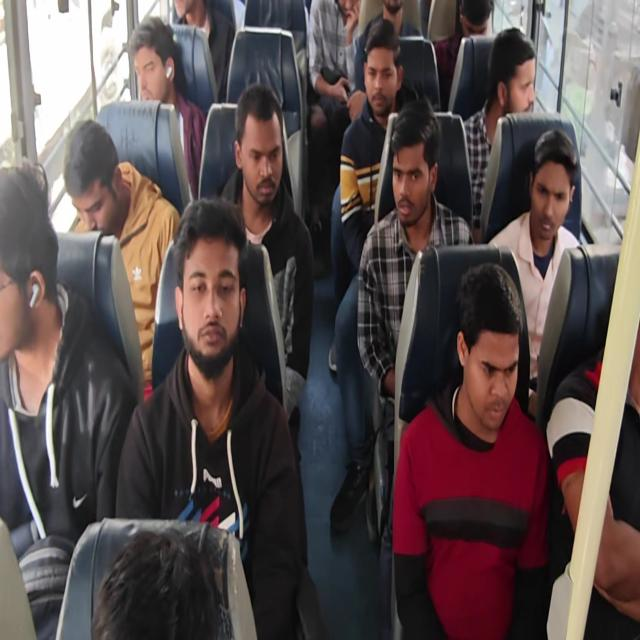person: (1, 1, 638, 638), (114, 196, 309, 638), (0, 164, 138, 638), (392, 261, 552, 638), (329, 18, 417, 533), (356, 97, 474, 408), (218, 82, 314, 460), (63, 118, 181, 401), (546, 316, 639, 634), (487, 128, 581, 408), (339, 18, 408, 270), (90, 527, 234, 639), (462, 27, 537, 239), (128, 15, 206, 200), (307, 0, 362, 234), (434, 0, 494, 111), (353, 0, 423, 92), (172, 0, 235, 101), (356, 0, 423, 40)
